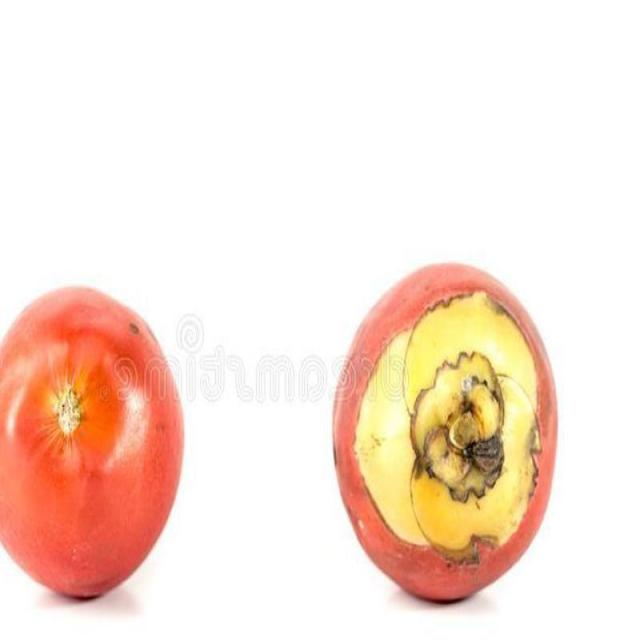good: (331, 265, 558, 606), (0, 286, 189, 602)
